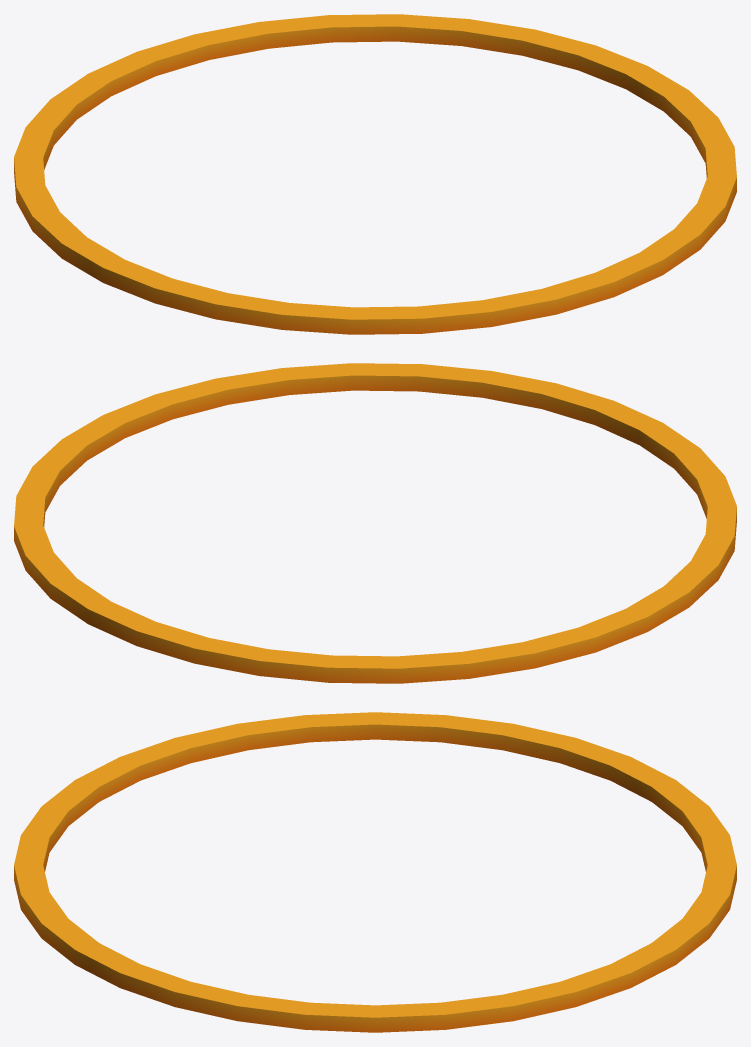
File: Gound_Socket_04.fbx
3 views of the same model, one above another, from view 1: azimuth 30°, elevation 25°; view 2: azimuth 150°, elevation 25°; view 3: azimuth 270°, elevation 25° (orthographic).
Visible parts, largest first — view 1: Obstacle_Gound_Socket_04; view 2: Obstacle_Gound_Socket_04; view 3: Obstacle_Gound_Socket_04.
Part boxes in pixels (left/top/right/bottom): Obstacle_Gound_Socket_04: left=14, top=14, right=736, bottom=334; Obstacle_Gound_Socket_04: left=14, top=363, right=736, bottom=683; Obstacle_Gound_Socket_04: left=14, top=712, right=736, bottom=1032.
Bounding box in the file's own units: 218 × 5 × 218.
Materials: 1 (1 with a texture image).
